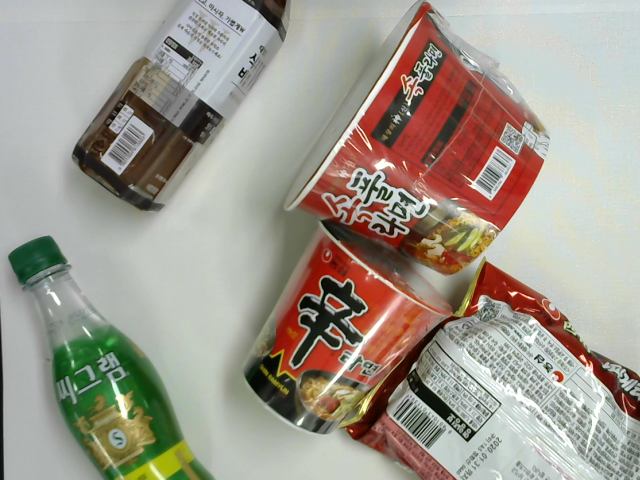Hejangpul: (278, 1, 556, 277)
Post-meal_recipe_W_tea_500ml: (70, 1, 292, 213)
Seagram_Lemon_Carbonated_Water: (8, 232, 215, 480)
Sichuan_Chapaghetti: (345, 257, 637, 480)
Sinramen_small: (240, 218, 457, 439)
